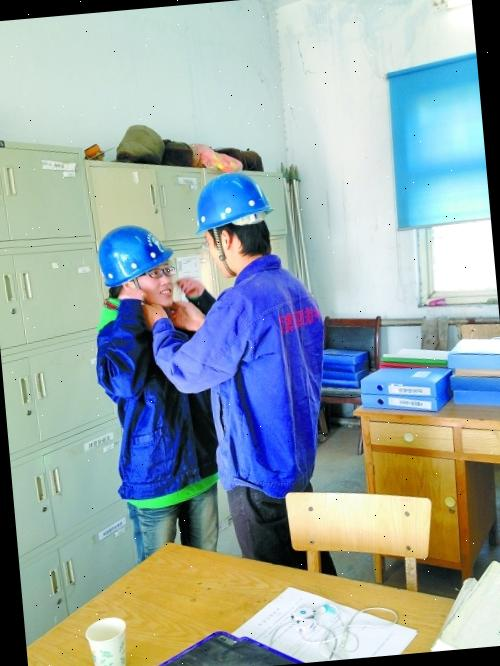helmet: (188, 172, 274, 241), (94, 220, 175, 286)
wear: (200, 268, 332, 494), (102, 314, 211, 500)
